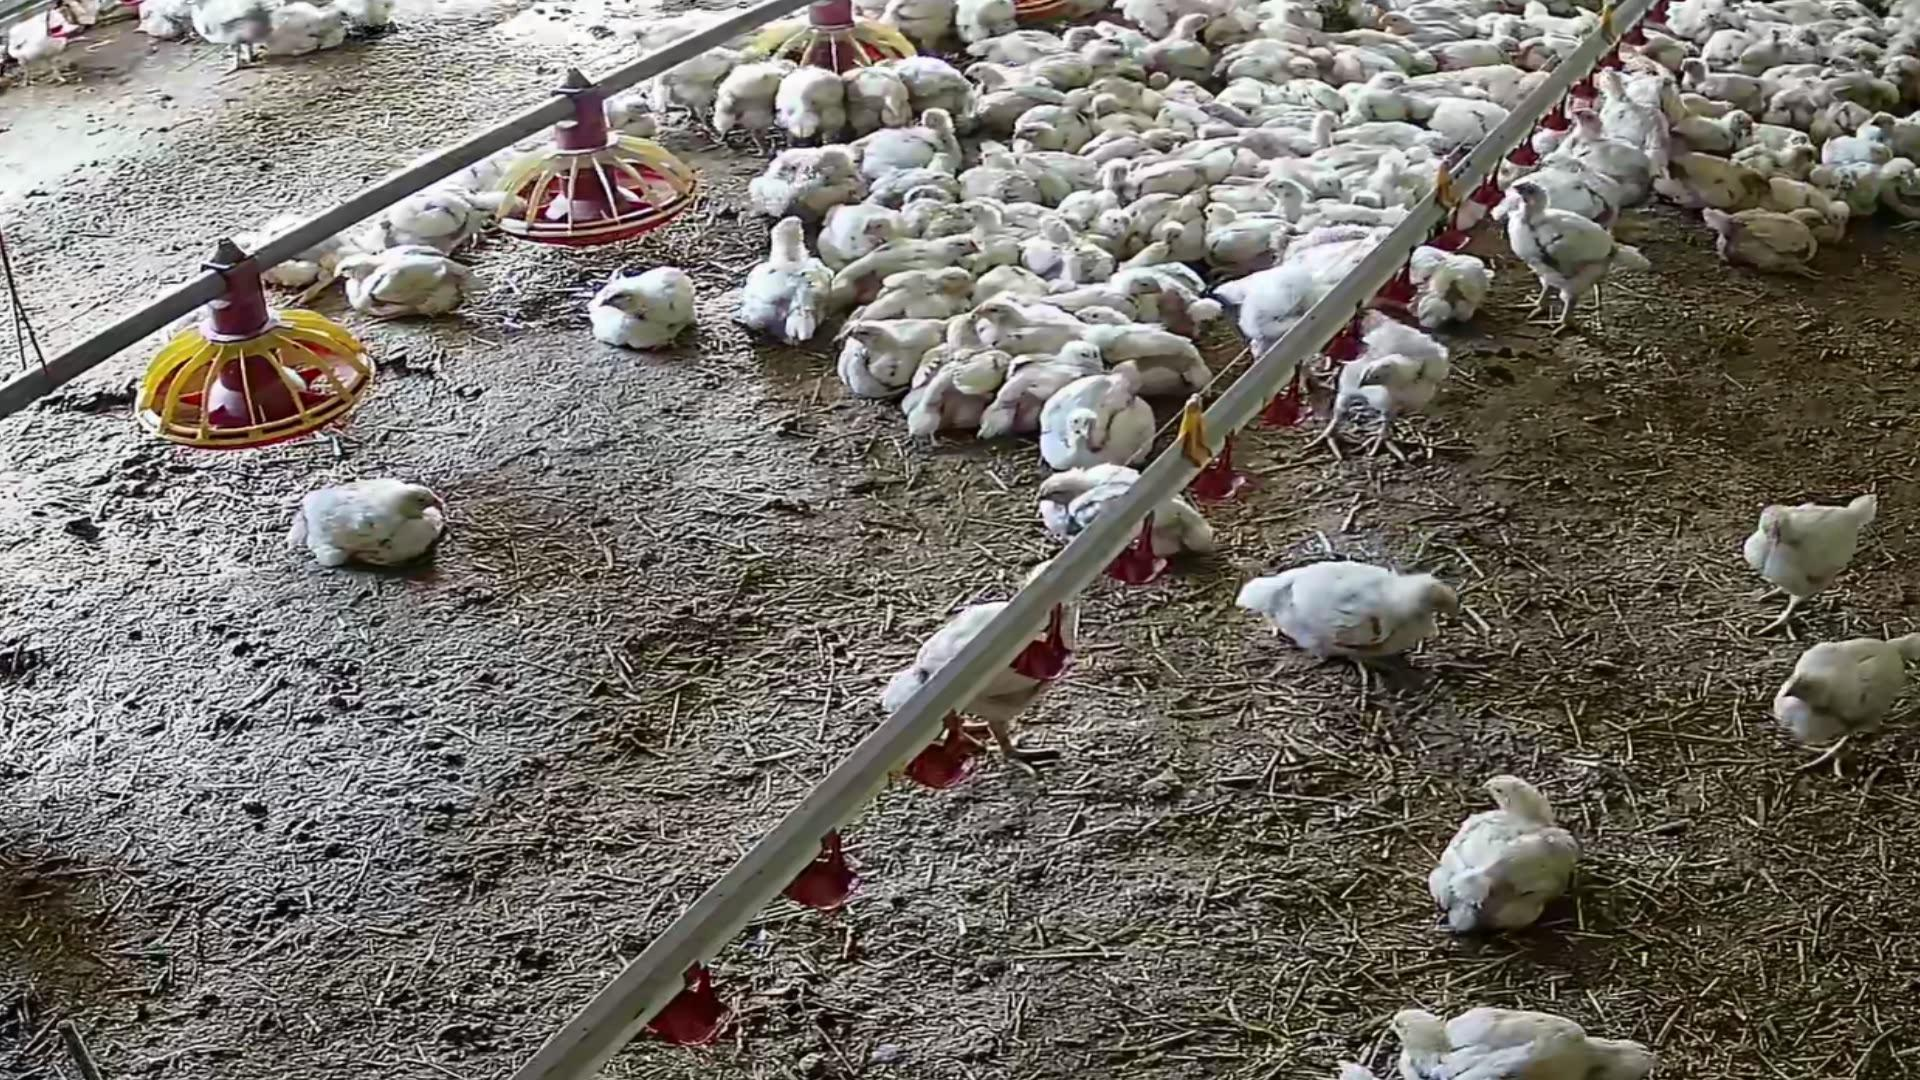poussin: (884, 556, 1072, 786), (1233, 564, 1462, 676), (1432, 774, 1575, 934), (1385, 1002, 1656, 1080), (1771, 634, 1920, 765), (1040, 465, 1226, 566), (1494, 179, 1636, 309), (1036, 464, 1216, 564), (1750, 492, 1879, 625), (1338, 301, 1435, 477), (289, 479, 446, 564), (1222, 262, 1341, 371), (1083, 298, 1217, 389), (906, 318, 1013, 429), (754, 208, 847, 334), (980, 345, 1102, 439), (1708, 200, 1841, 281), (760, 141, 880, 228), (219, 220, 353, 297), (334, 255, 477, 320), (588, 269, 703, 348), (1593, 69, 1680, 166), (1567, 103, 1655, 194), (646, 46, 749, 121), (981, 135, 1098, 199), (372, 199, 530, 247), (835, 324, 942, 393), (857, 117, 972, 178), (865, 257, 967, 323), (1403, 241, 1486, 319), (1203, 199, 1291, 270), (1538, 146, 1617, 219), (783, 61, 851, 142), (3, 11, 76, 84), (196, 0, 273, 69), (837, 239, 981, 274), (731, 62, 789, 148), (269, 0, 353, 57), (1642, 162, 1768, 199), (832, 69, 915, 124), (1676, 59, 1772, 107), (965, 194, 1030, 262), (589, 90, 667, 144), (1840, 157, 1919, 208), (1052, 268, 1158, 306), (885, 61, 973, 105), (1663, 113, 1759, 153), (978, 26, 1102, 55), (971, 306, 1095, 335), (1766, 199, 1841, 244), (1422, 37, 1524, 69), (1156, 9, 1215, 61), (135, 0, 196, 47), (1048, 193, 1134, 227), (1733, 145, 1826, 174), (1011, 100, 1064, 152), (1865, 107, 1920, 156), (1284, 219, 1393, 243), (1055, 83, 1091, 153), (1788, 164, 1859, 198), (1386, 11, 1469, 40), (1127, 165, 1221, 190), (1275, 247, 1385, 268), (1224, 54, 1320, 78), (1153, 215, 1211, 253), (1292, 111, 1342, 153), (971, 61, 1048, 87), (1129, 186, 1211, 211), (1199, 98, 1261, 131), (1262, 178, 1312, 218), (339, 0, 400, 29), (1815, 95, 1862, 128), (1774, 92, 1828, 119), (1092, 78, 1153, 99), (1331, 26, 1408, 42), (1342, 73, 1406, 91), (869, 211, 906, 241), (1308, 169, 1349, 193), (1100, 160, 1131, 189), (1095, 208, 1134, 231), (1783, 128, 1817, 142)
